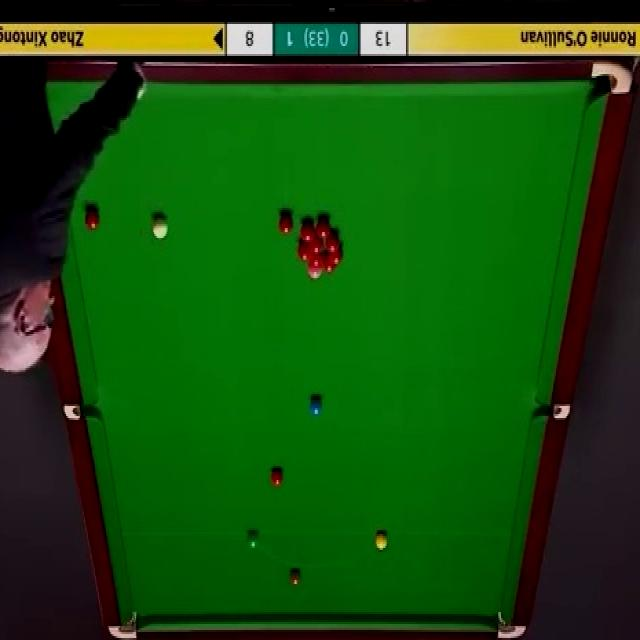blue-ball: (309, 394, 323, 418)
brown-ball: (288, 567, 302, 587)
green-ball: (247, 530, 260, 551)
pink-ball: (308, 263, 321, 280)
red-ball: (85, 205, 100, 232), (308, 234, 323, 256), (279, 213, 293, 236), (270, 466, 284, 489), (317, 215, 330, 238), (301, 221, 315, 242), (329, 246, 342, 266), (327, 232, 339, 253), (296, 242, 309, 261), (323, 253, 335, 273), (310, 254, 323, 265)
white-ball: (152, 216, 168, 239)
yellow-ball: (376, 532, 388, 550)
